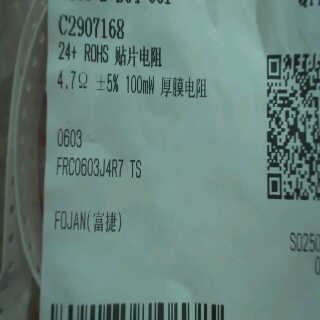4.7R: (53, 65, 96, 99)
